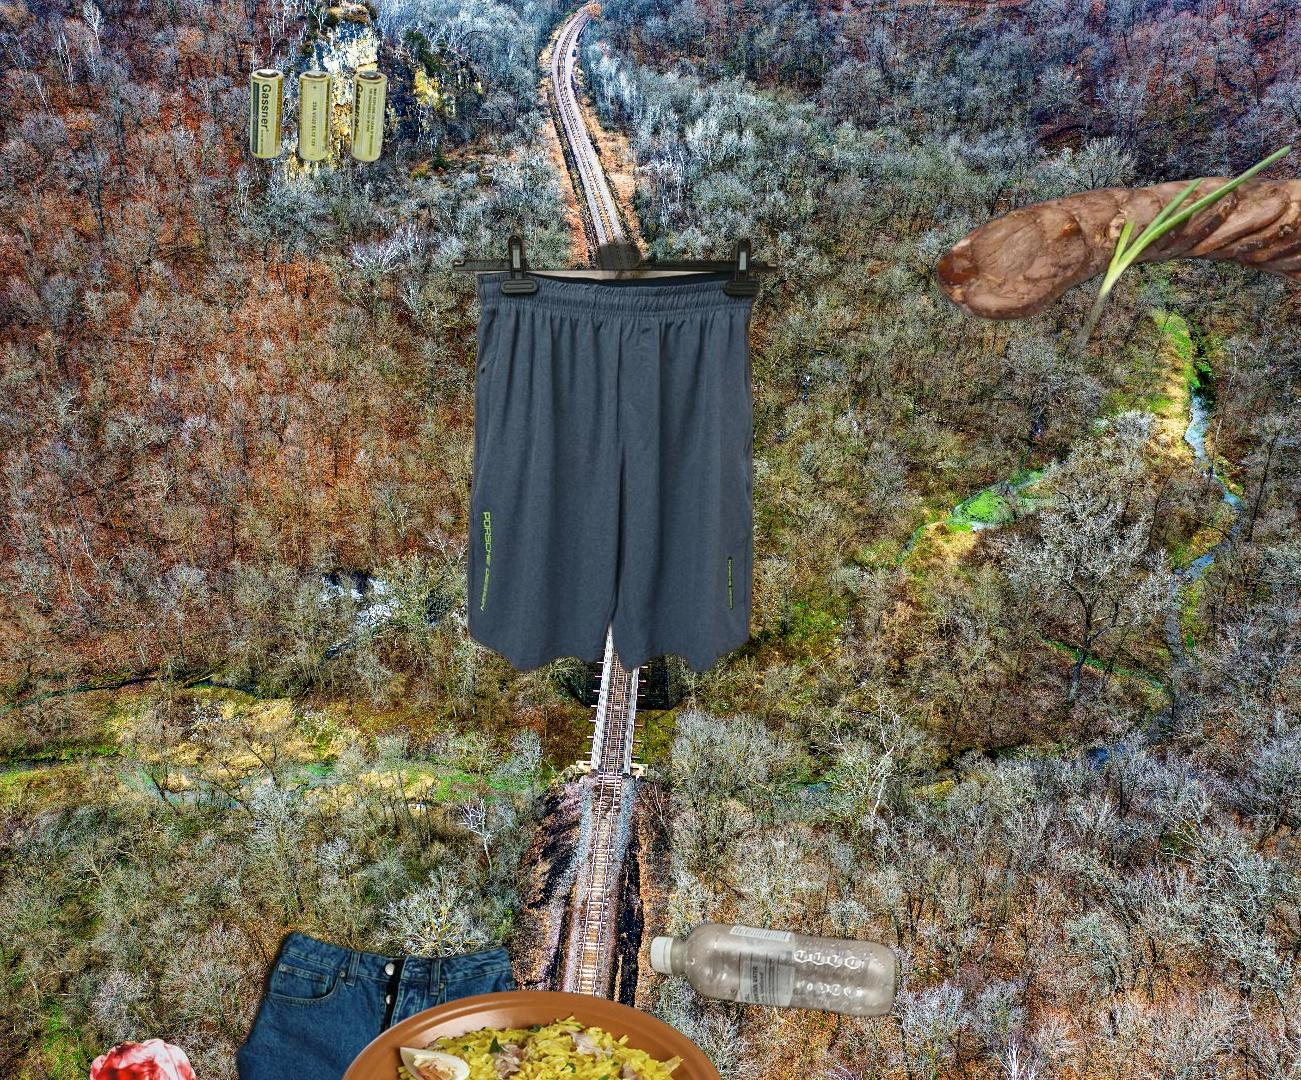battery: (247, 66, 390, 165)
biological: (933, 141, 1301, 355), (328, 987, 735, 1080)
clothes: (426, 132, 782, 679), (216, 926, 558, 1080)
plastic-bag: (86, 1029, 207, 1080)
plastic-bottles: (646, 916, 901, 1022)
